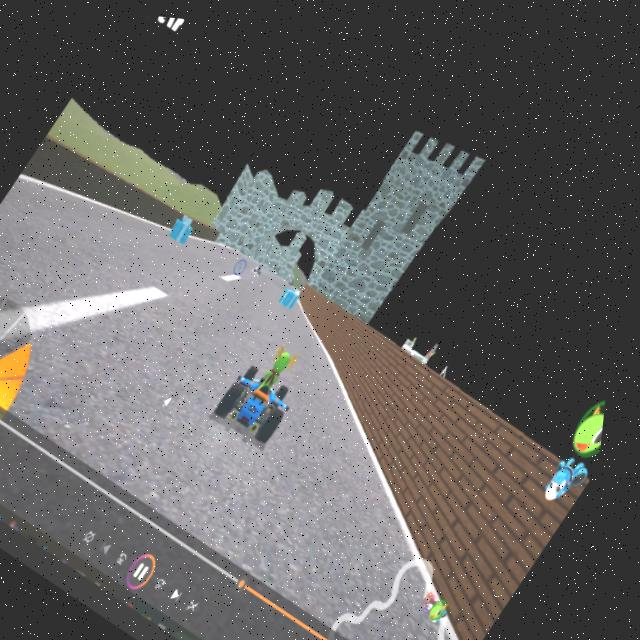bonus: (164, 206, 204, 245), (280, 275, 312, 308)
enemy_kart: (250, 252, 275, 275)
player_kart: (214, 326, 323, 451)
track: (140, 237, 277, 377)
